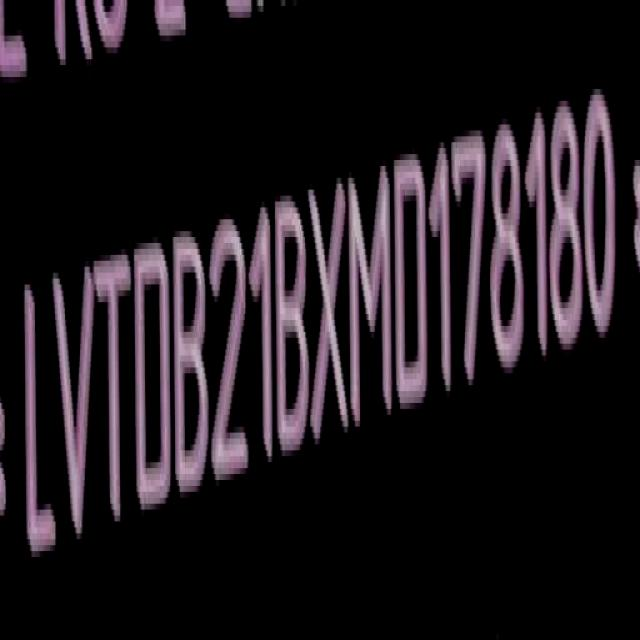0: (585, 90, 620, 347)
1: (253, 212, 275, 476), (433, 137, 452, 406), (528, 116, 548, 367)
2: (212, 224, 250, 494)
7: (454, 126, 486, 395)
8: (490, 126, 526, 380), (552, 99, 584, 359)
B: (175, 227, 212, 507), (277, 190, 312, 464)
D: (131, 240, 171, 524), (394, 146, 431, 415)
L: (17, 270, 56, 566)
M: (348, 157, 393, 429)
T: (95, 250, 134, 544)
V: (46, 262, 96, 554)
X: (310, 177, 348, 452)
